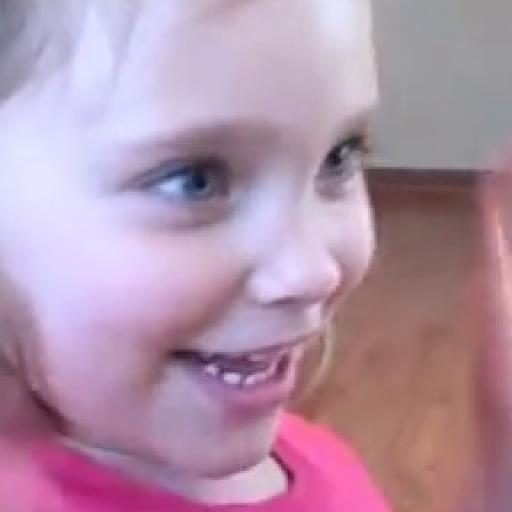Autism: (9, 11, 430, 512)
